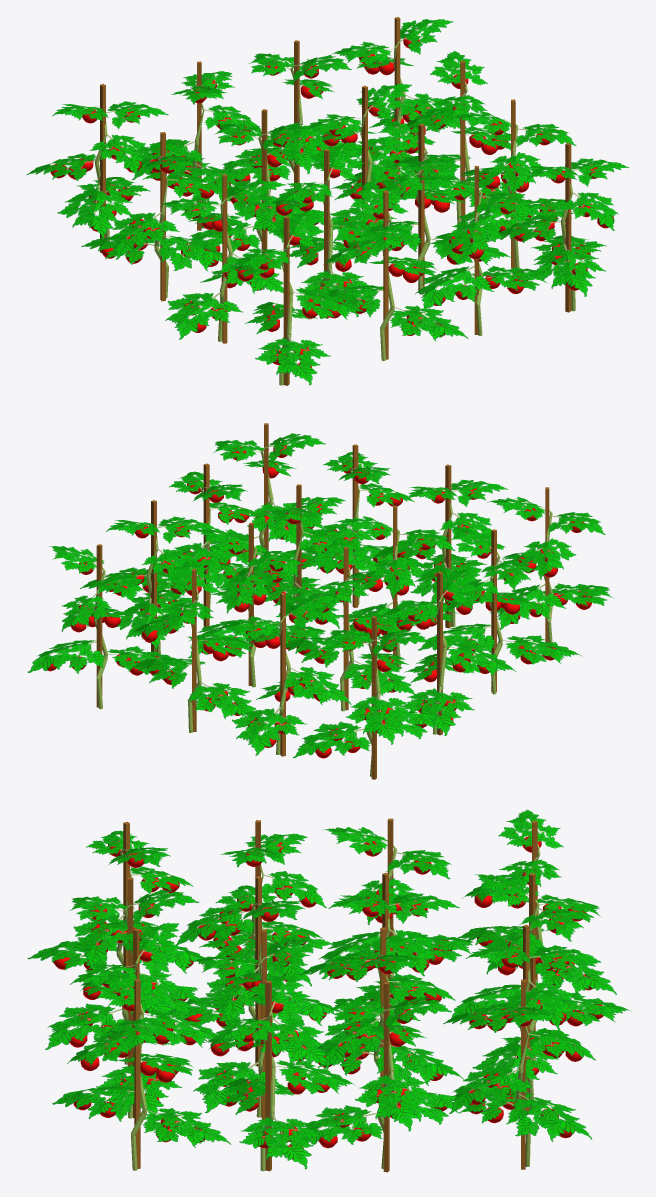
Rendered from tomato_2.glb.
The picture shows the model from 3 angles, top to bottom: view 1: azimuth 30°, elevation 25°; view 2: azimuth 150°, elevation 25°; view 3: azimuth 270°, elevation 25°; orthographic projection. The views are drawn at different scales.
Visible parts, largest first — view 1: Tomatoe_F3; view 2: Tomatoe_F3; view 3: Tomatoe_F3.
Boxes of the visible parts, <box> form: Tomatoe_F3: <box>26,17,628,385</box>; Tomatoe_F3: <box>27,423,612,779</box>; Tomatoe_F3: <box>27,809,631,1172</box>.
Bounding box in the file's own units: 2.59 × 0.8909 × 2.7.
Materials: 1 (1 with a texture image).
